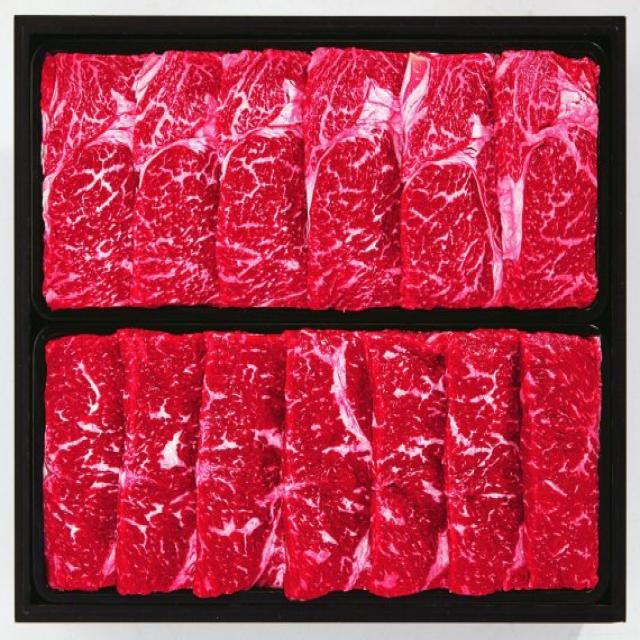beef: (40, 330, 603, 597), (36, 51, 593, 303), (225, 350, 334, 587), (226, 78, 314, 294)
